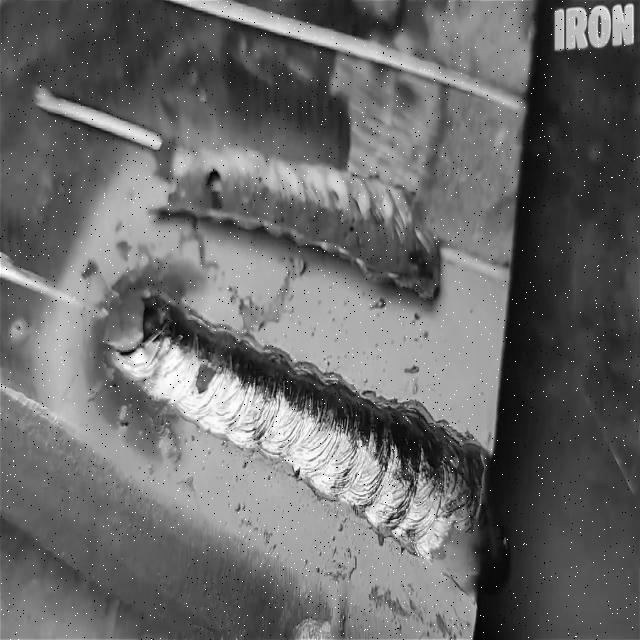Bad Welding: (106, 291, 484, 560)
